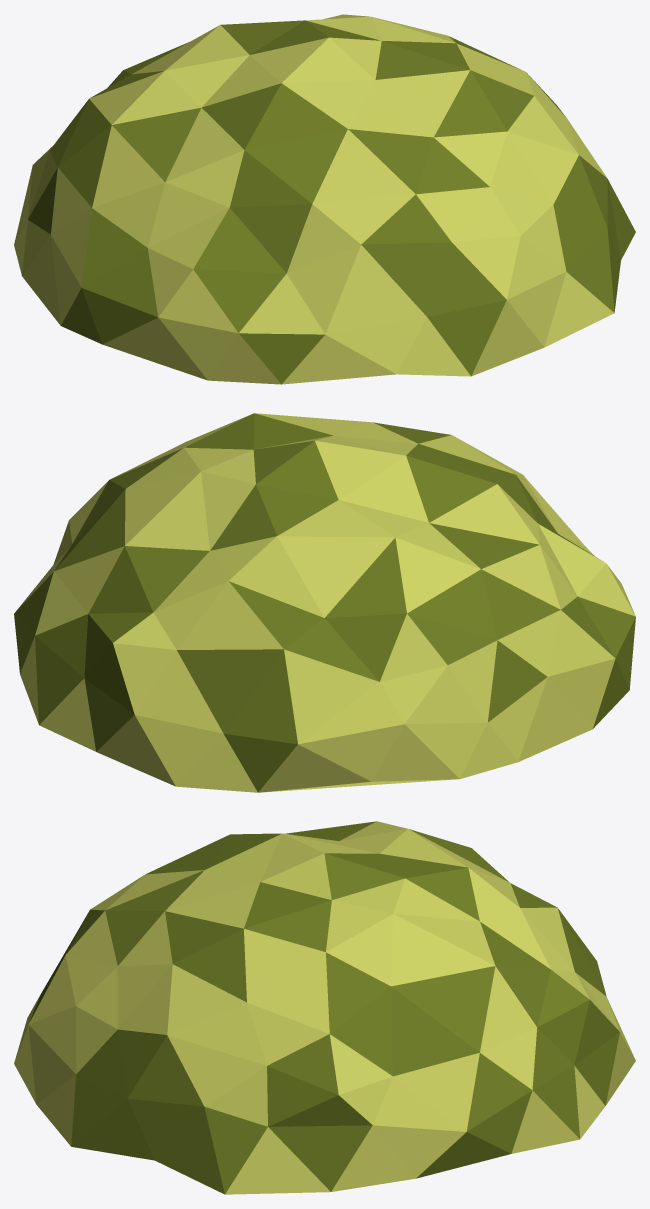
File: coral_brain.glb
3 renders of one model, top to bottom at view 1: azimuth 30°, elevation 25°; view 2: azimuth 150°, elevation 25°; view 3: azimuth 270°, elevation 25°, orthographic. The views are drawn at different scales.
Visible parts, largest first — view 1: coral_brain; view 2: coral_brain; view 3: coral_brain.
Boxes of the visible parts, x1,y1,x2,y2 form: coral_brain: [14, 14, 635, 384]; coral_brain: [14, 413, 635, 792]; coral_brain: [14, 821, 635, 1194].
Bounding box in the file's own units: 0.7969 × 0.3174 × 0.8223.
